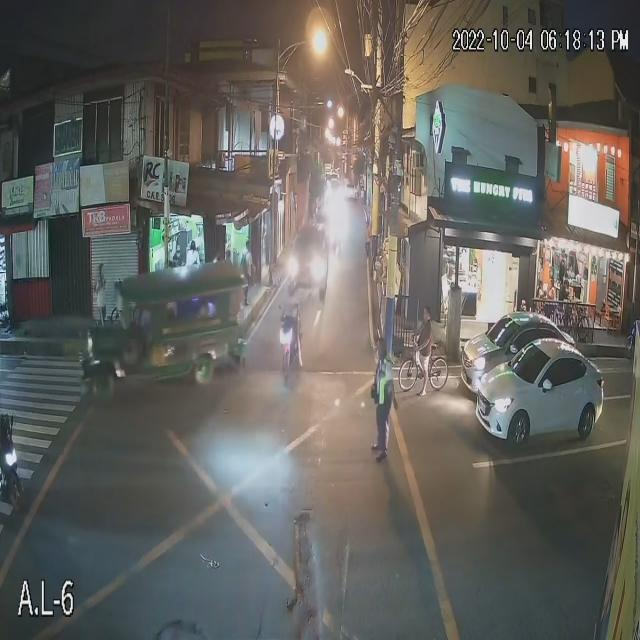motorcycle: (274, 328, 318, 381), (1, 413, 26, 502)
